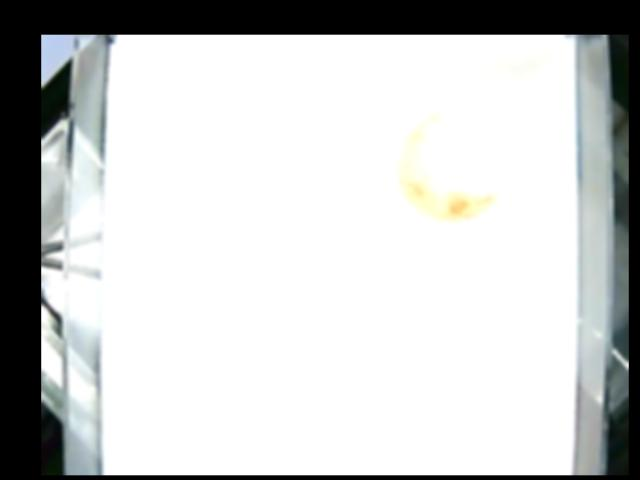Mooli: (399, 110, 495, 221)
